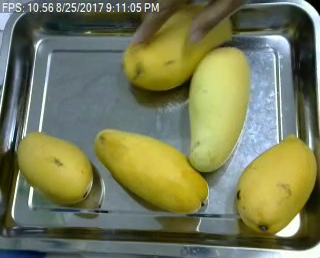Mango: (91, 125, 217, 213), (119, 5, 234, 96), (231, 131, 319, 237), (181, 44, 253, 171), (14, 127, 99, 210)
